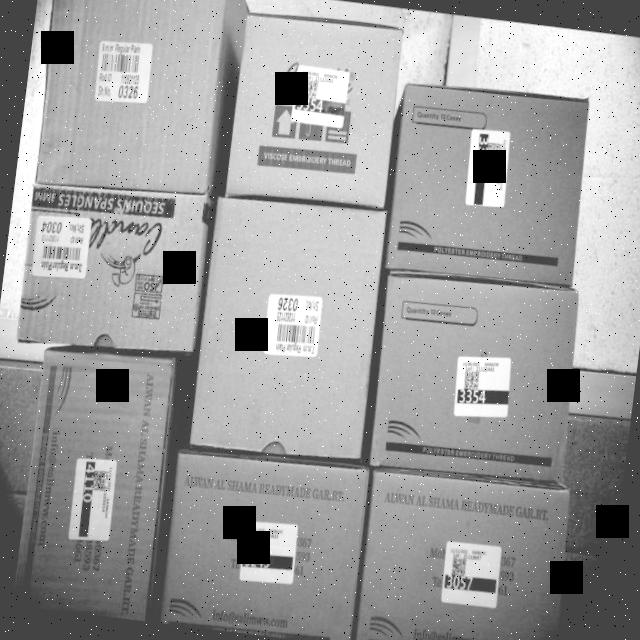box: (188, 190, 387, 468), (365, 274, 581, 484), (14, 340, 175, 620), (383, 82, 592, 288), (156, 449, 369, 640), (352, 467, 576, 640), (32, 0, 232, 193), (12, 176, 210, 364), (225, 14, 406, 208)
